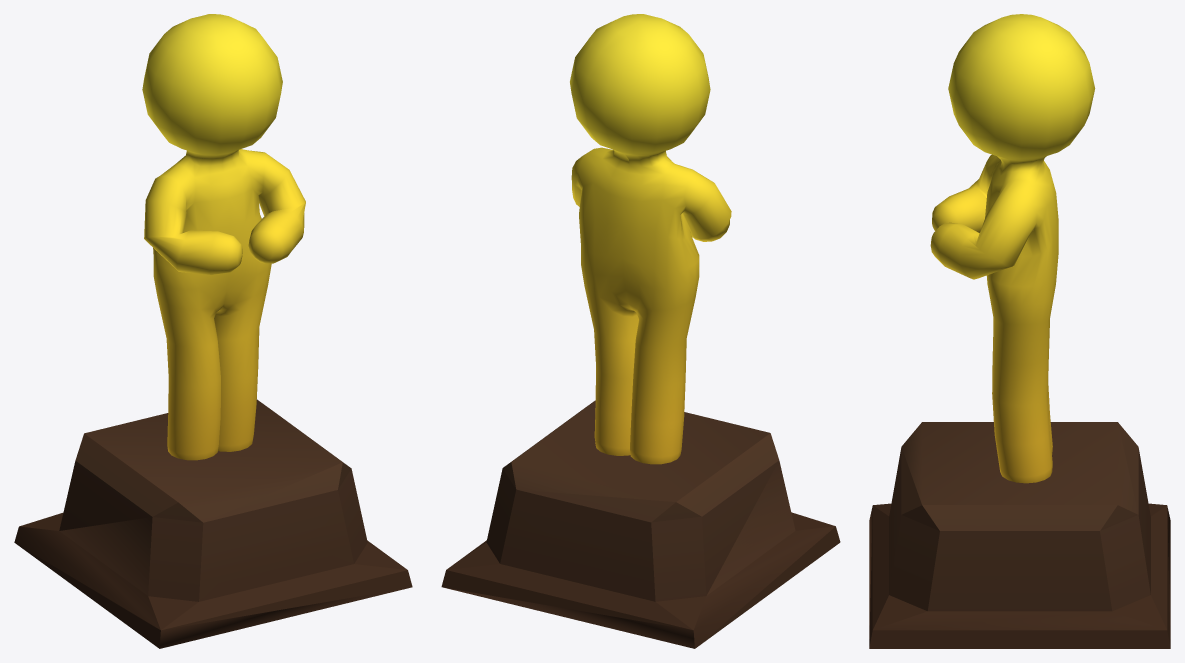
The model's file is ThrophyStickman.fbx.
3 views of the same model, side by side, from view 1: azimuth 30°, elevation 25°; view 2: azimuth 150°, elevation 25°; view 3: azimuth 270°, elevation 25° (orthographic). The views are drawn at different scales.
Parts seen in each view (by area): view 1: Trophy.010, TrophyStickman; view 2: Trophy.010, TrophyStickman; view 3: Trophy.010, TrophyStickman.
Part boxes in pixels (x1,y1,x2,y2): Trophy.010: (14, 399, 412, 648); TrophyStickman: (142, 14, 305, 460); Trophy.010: (441, 400, 840, 648); TrophyStickman: (570, 14, 731, 464); Trophy.010: (869, 422, 1170, 648); TrophyStickman: (930, 14, 1095, 483).
Size of the model in its own units: 0.8308 by 1.7 by 0.8266.
